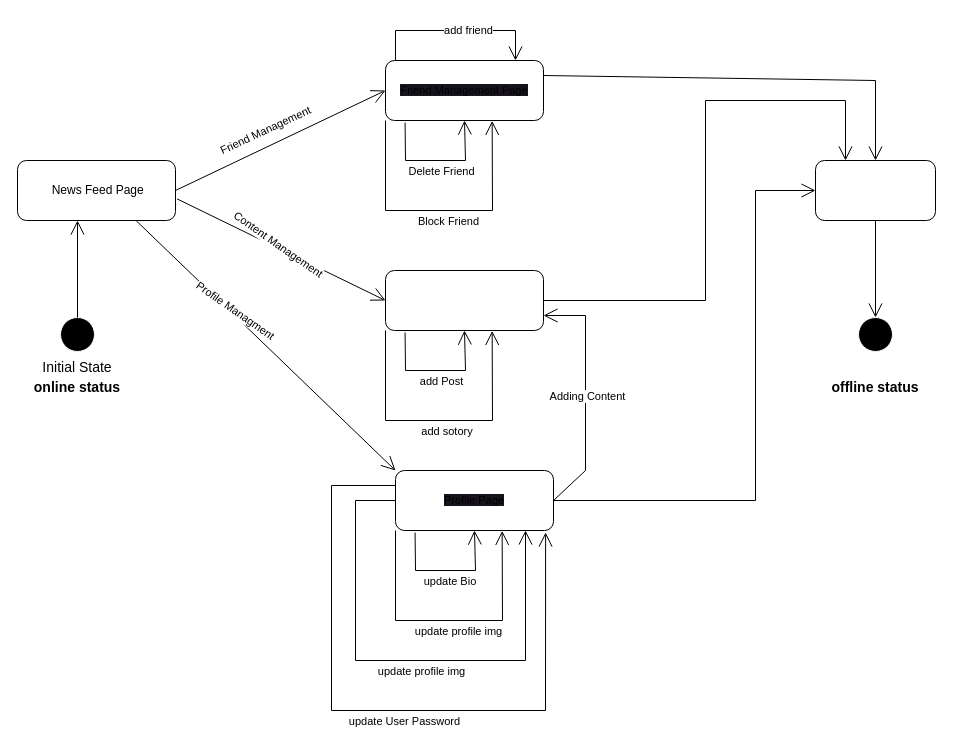
This 953x745 diagram has some shape labels left out. The shapes that lost their labels are listed below. From the top down, each one's box as (x1, y1, x2, y2) in pixels, then its label:
(814, 160, 936, 220): Logout
(384, 270, 544, 330): Content Management Page
